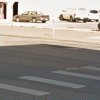crosswalk: (0, 64, 99, 95)
